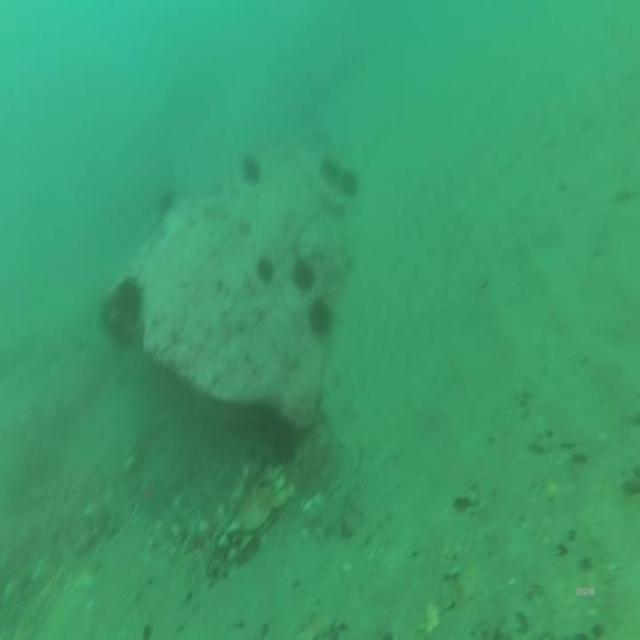echinus: (114, 284, 140, 318), (308, 300, 330, 334), (322, 156, 338, 185), (294, 266, 314, 288), (242, 155, 258, 180), (344, 171, 357, 196), (259, 258, 273, 281), (157, 192, 175, 208)
starfish: (139, 476, 165, 516)
